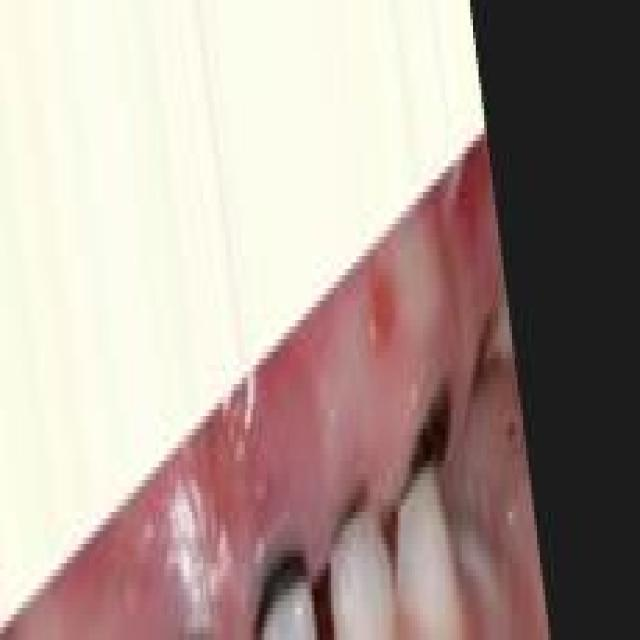caries: (394, 375, 461, 531), (245, 534, 316, 640), (319, 467, 375, 591), (464, 268, 508, 409)
